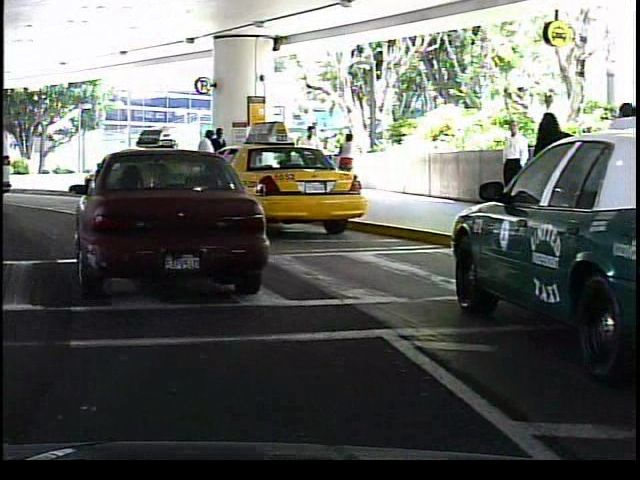person: (525, 106, 580, 255), (603, 95, 640, 258), (493, 114, 530, 220), (294, 123, 323, 194), (194, 128, 219, 197), (333, 130, 359, 191), (211, 126, 230, 194)
